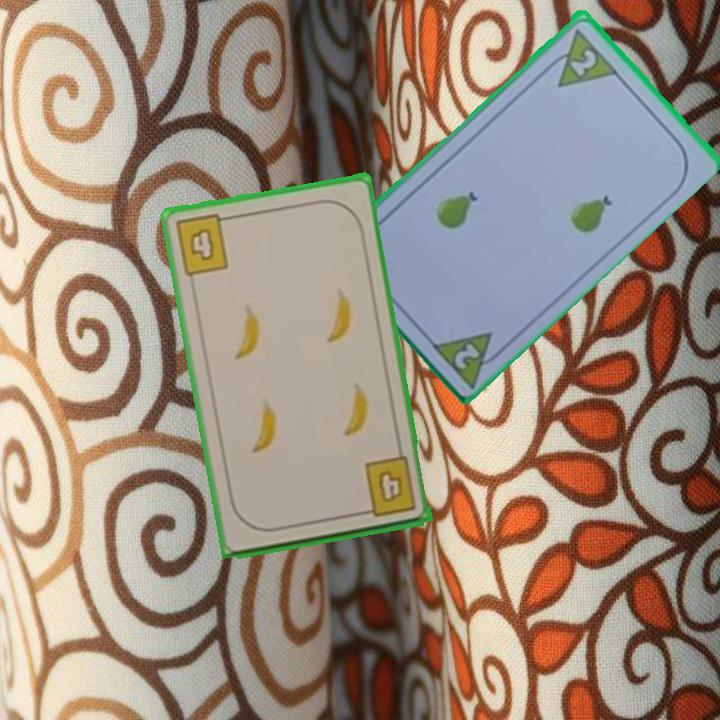2p: (426, 327, 510, 390), (566, 44, 600, 78)
4b: (171, 211, 235, 279), (356, 453, 419, 521)
